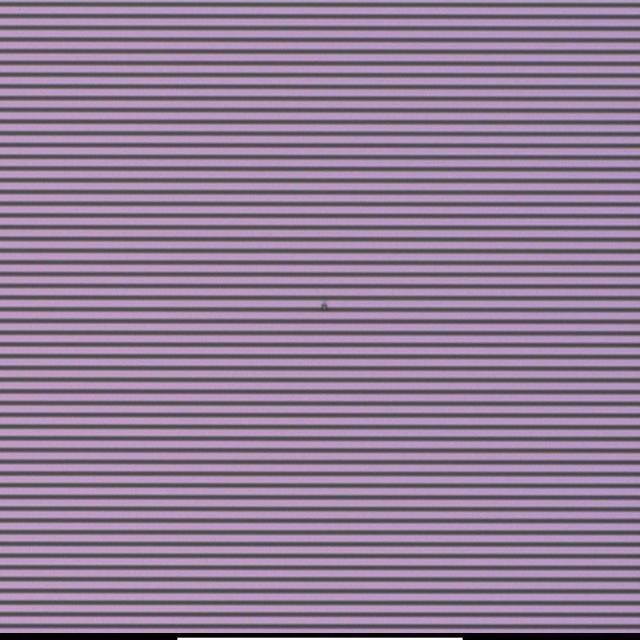03_intrusion: (318, 295, 330, 313)
